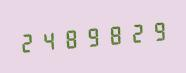eight: (59, 22, 79, 54), (101, 19, 121, 50)
four: (38, 24, 58, 55)
nine: (80, 21, 100, 52), (143, 15, 163, 46)
two: (17, 26, 37, 57), (122, 17, 142, 48)
